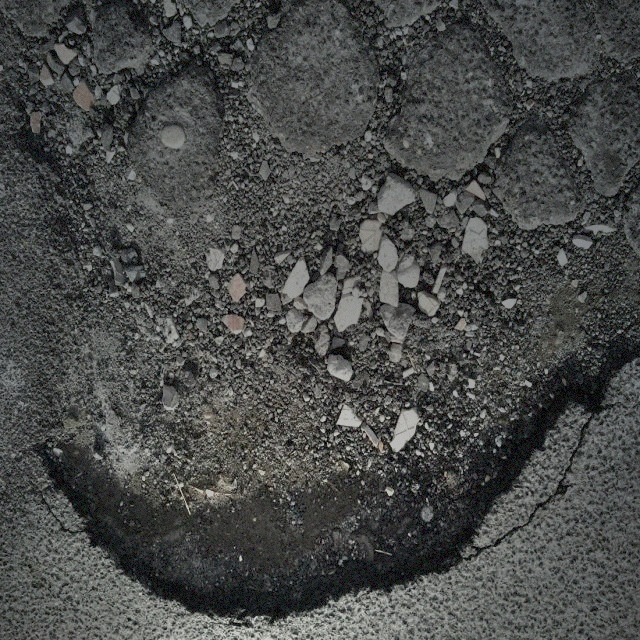pothole: (24, 142, 618, 614)
